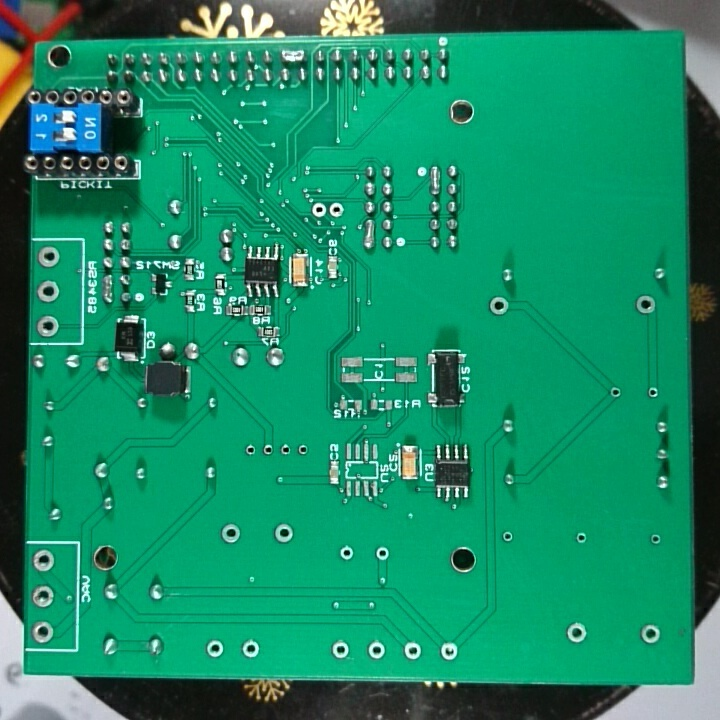F: (30, 546, 59, 575), (34, 312, 63, 340), (563, 619, 588, 647), (30, 619, 56, 644), (36, 279, 61, 305), (36, 243, 61, 269), (639, 621, 662, 649), (632, 290, 657, 315), (31, 585, 57, 609), (219, 520, 242, 546), (488, 292, 510, 318), (272, 520, 294, 546), (439, 639, 461, 664), (239, 637, 264, 659), (204, 636, 225, 662), (329, 638, 350, 661), (366, 640, 387, 662), (327, 198, 347, 221), (402, 640, 423, 661), (373, 545, 394, 563), (647, 529, 664, 551), (310, 200, 328, 220), (607, 384, 625, 403), (573, 528, 592, 546), (338, 544, 356, 560), (644, 384, 661, 400), (500, 529, 516, 546), (295, 439, 311, 456), (261, 440, 276, 458), (244, 442, 259, 459), (279, 440, 293, 458)
P: (361, 217, 379, 252), (427, 163, 444, 198), (279, 47, 310, 66), (99, 270, 116, 304)
